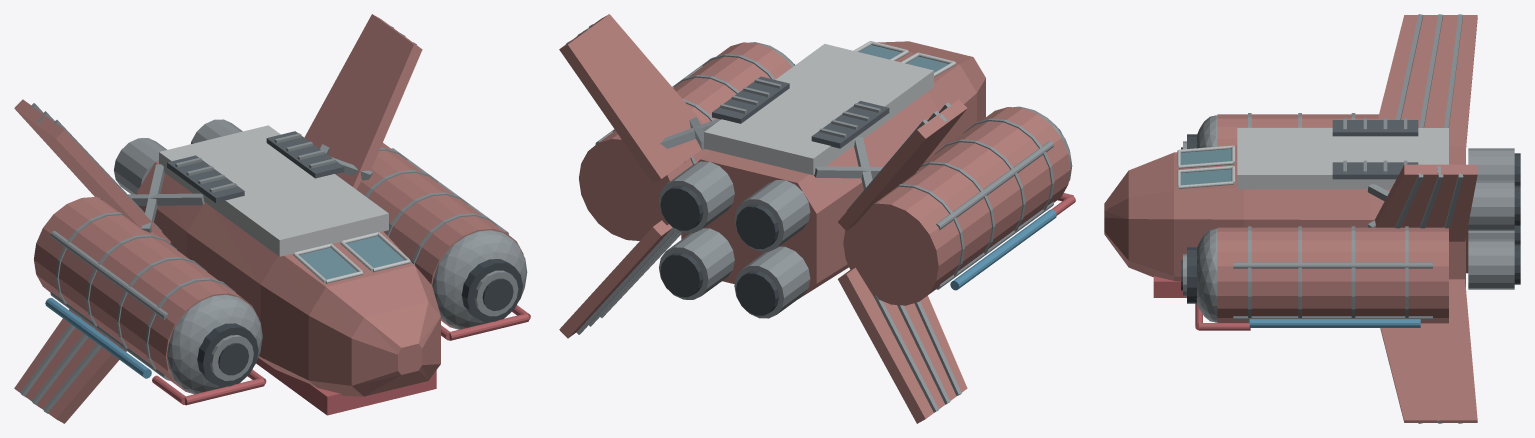
The model's file is earp_red_off.glb.
3 views of the same model, side by side, from view 1: azimuth 30°, elevation 25°; view 2: azimuth 150°, elevation 25°; view 3: azimuth 270°, elevation 25° (orthographic). The views are drawn at different scales.
Parts seen in each view (by area): view 1: material_0, material_4, material_2, material_1, material_5, material_7, material_3, material_6; view 2: material_0, material_4, material_2, material_5, material_7, material_6, material_3; view 3: material_0, material_4, material_2, material_7, material_5, material_6, material_3, material_1.
Part boxes in pixels (bbox=[...]): material_0: bbox=[14, 14, 523, 423]; material_4: bbox=[20, 26, 527, 413]; material_2: bbox=[159, 125, 410, 283]; material_1: bbox=[152, 305, 530, 415]; material_5: bbox=[197, 259, 522, 386]; material_7: bbox=[167, 131, 344, 203]; material_3: bbox=[299, 236, 404, 279]; material_6: bbox=[45, 298, 151, 378]; material_0: bbox=[559, 14, 1070, 423]; material_4: bbox=[566, 24, 1072, 412]; material_2: bbox=[704, 41, 955, 175]; material_5: bbox=[660, 64, 1061, 315]; material_7: bbox=[712, 76, 889, 148]; material_6: bbox=[950, 209, 1056, 290]; material_3: bbox=[859, 45, 948, 72]; material_0: bbox=[1104, 15, 1477, 422]; material_4: bbox=[1183, 14, 1514, 423]; material_2: bbox=[1177, 128, 1448, 189]; material_7: bbox=[1332, 120, 1418, 179]; material_5: bbox=[1181, 134, 1520, 303]; material_6: bbox=[1249, 319, 1420, 327]; material_3: bbox=[1180, 149, 1231, 185]; material_1: bbox=[1153, 276, 1250, 330].
Size of the model in its own units: 3.75 by 2.87 by 4.13.
